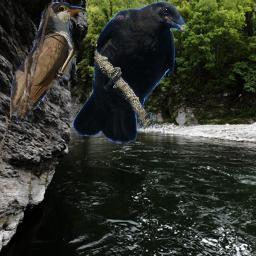Crow: (72, 1, 188, 144)
Cuckoo: (10, 2, 106, 123)
